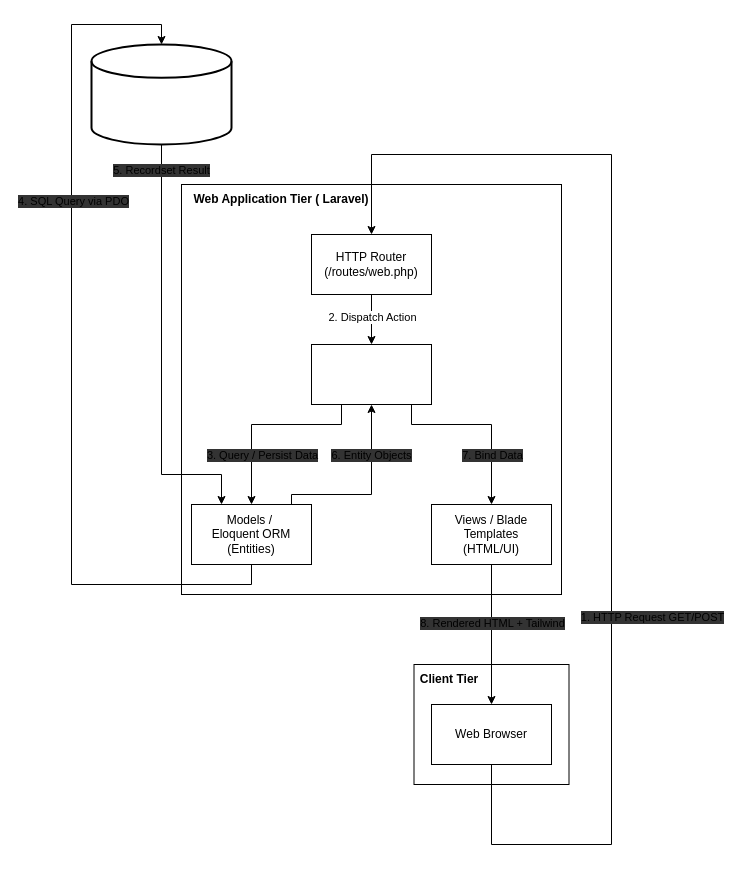
The diagram is 741 pixels wide and 870 high, and some of its shapes have lost their labels. The shapes that lost their labels are listed below. From the top down, each one's centre as x and y in pixels, then its label:
the point at 161,94: MySQL Server 8.0 (Inno DB)
the point at 371,374: Controllers (Logic & Validation)
